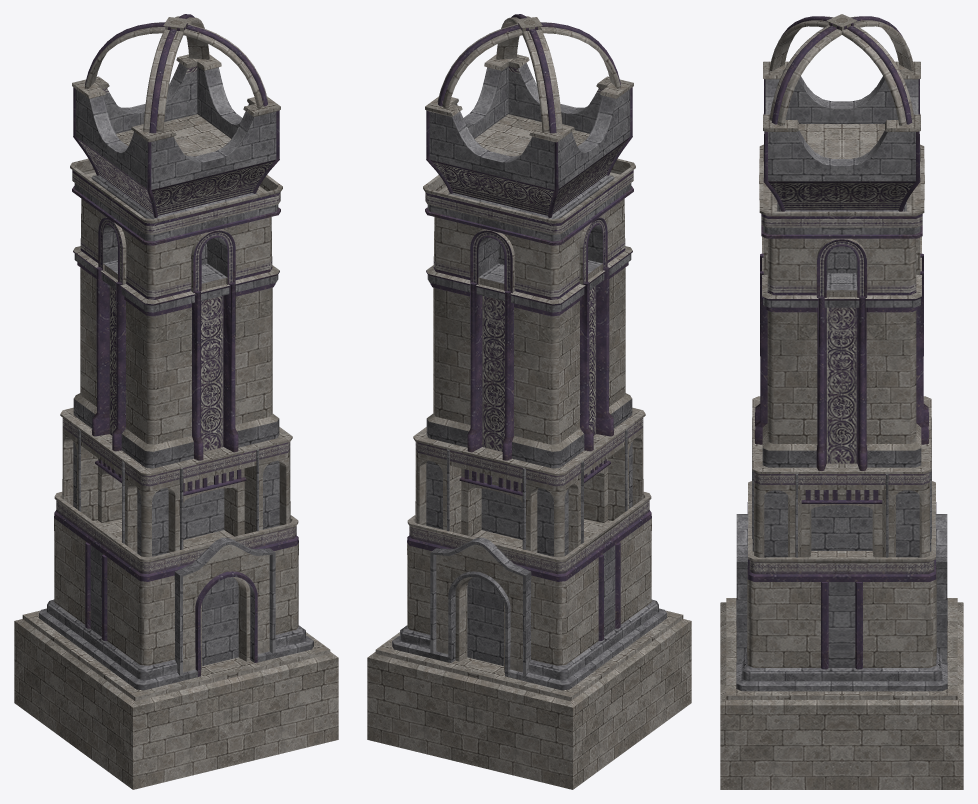
The model's file is darkTower.glb.
3 views of the same model, side by side, from view 1: azimuth 30°, elevation 25°; view 2: azimuth 150°, elevation 25°; view 3: azimuth 270°, elevation 25° (orthographic). The views are drawn at different scales.
Visible parts, largest first — view 1: DarkTower_Level3; view 2: DarkTower_Level3; view 3: DarkTower_Level3.
Part boxes in pixels (<box>): DarkTower_Level3: <box>14,14,338,789</box>; DarkTower_Level3: <box>367,14,691,789</box>; DarkTower_Level3: <box>720,14,963,789</box>.
Bounding box in the file's own units: 8.8 × 28.61 × 8.8.
Materials: 1 (1 with a texture image).
